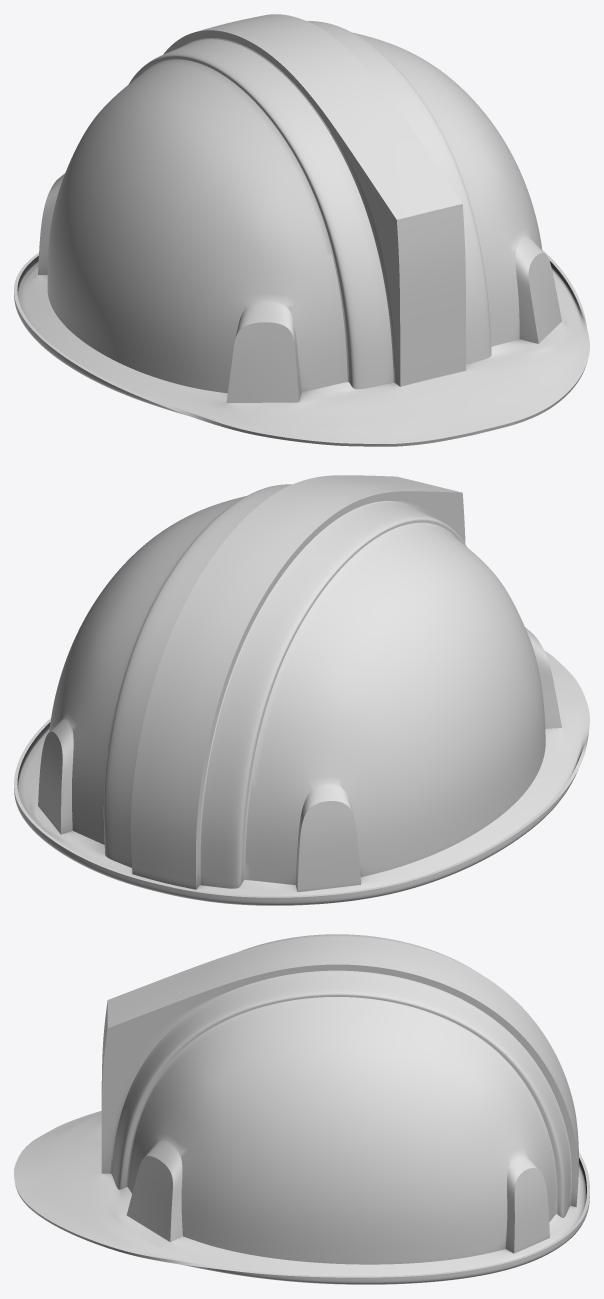
The model's file is casco blanco.fbx.
The picture shows the model from 3 angles, top to bottom: view 1: azimuth 30°, elevation 25°; view 2: azimuth 150°, elevation 25°; view 3: azimuth 270°, elevation 25°; orthographic projection. The views are drawn at different scales.
Visible parts, largest first — view 1: casco blanco; view 2: casco blanco; view 3: casco blanco.
Boxes of the visible parts, x1=… form: casco blanco: x1=14, y1=14, x2=589, y2=446; casco blanco: x1=14, y1=475, x2=589, y2=905; casco blanco: x1=14, y1=934, x2=589, y2=1284.
Size of the model in its own units: 23.51 by 13.54 by 28.34.
